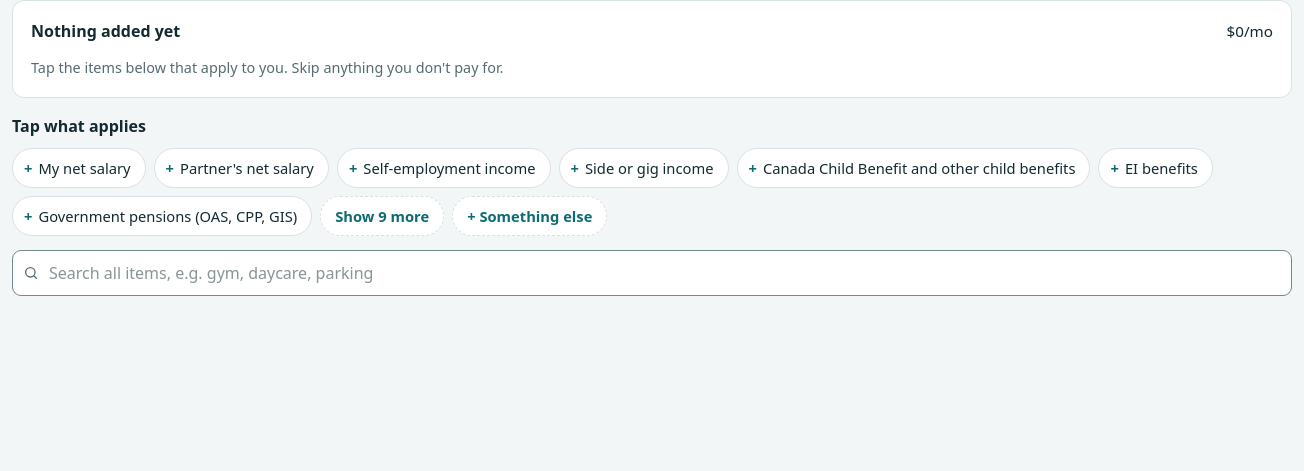
Test case: BucketStep › moves focus to the next row, then the previous, then the picker heading
Click the button with aria-label "Add My net salary" at {"x": 79, "y": 168}, box [12,148,146,188]
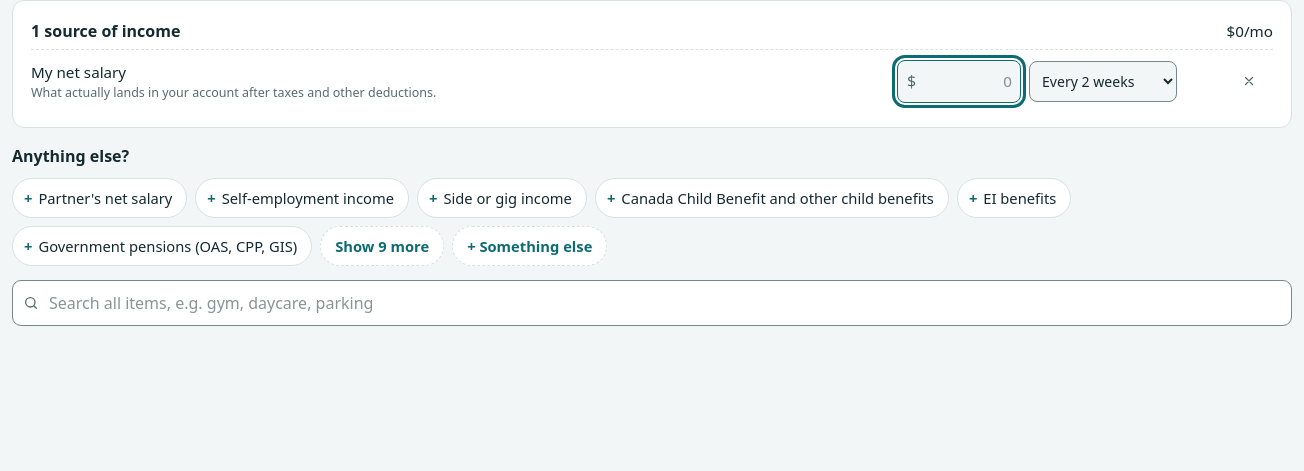
Click the button with aria-label "Add Partner's net salary" at {"x": 100, "y": 198}, box [12,178,187,218]
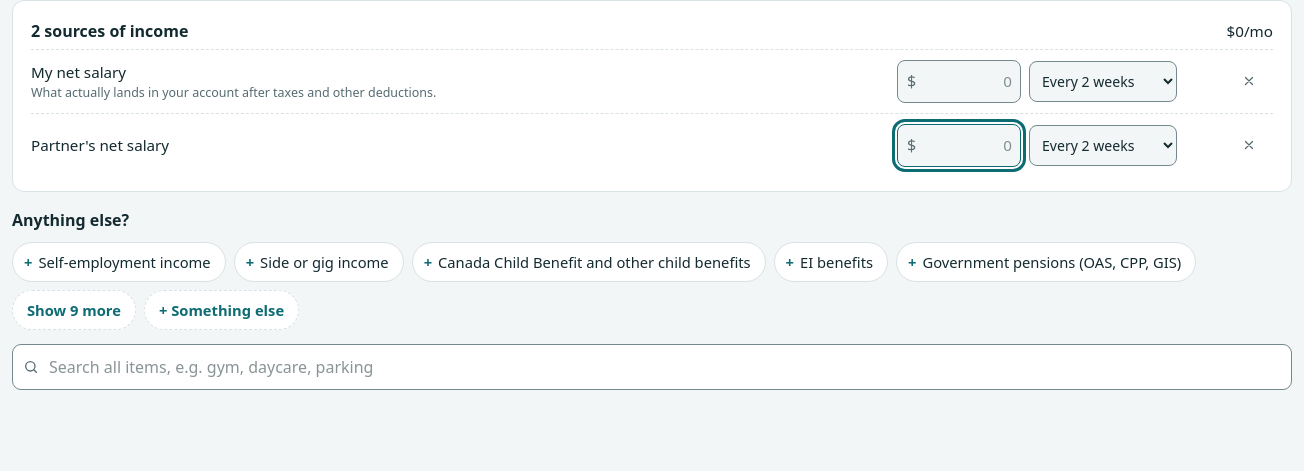
Click the button "+ EI benefits" at {"x": 831, "y": 262}, box [774,242,888,282]
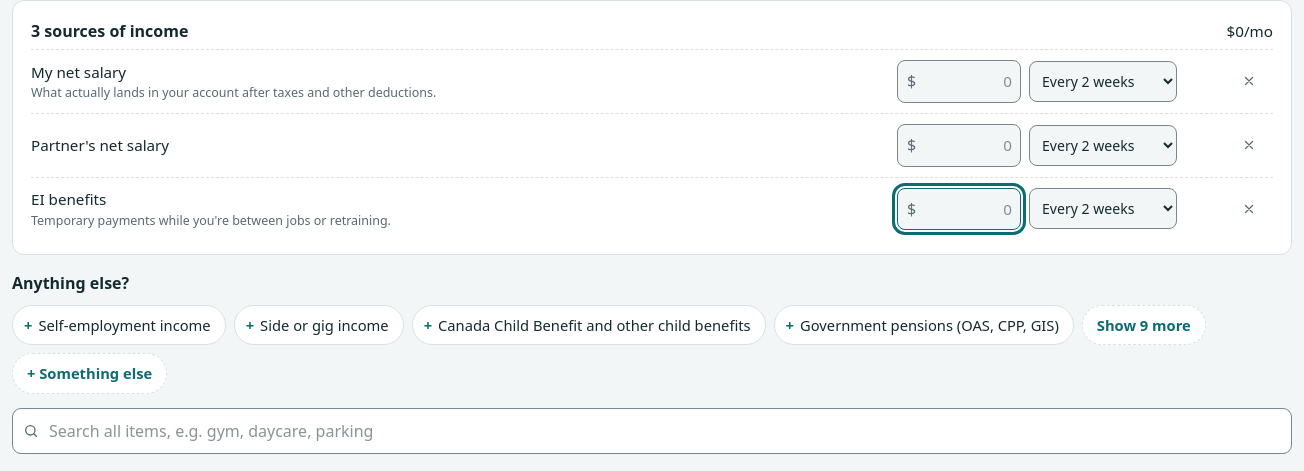
Click the button named "Remove Partner's net salary" at {"x": 1249, "y": 145}, box [1233,129,1265,161]
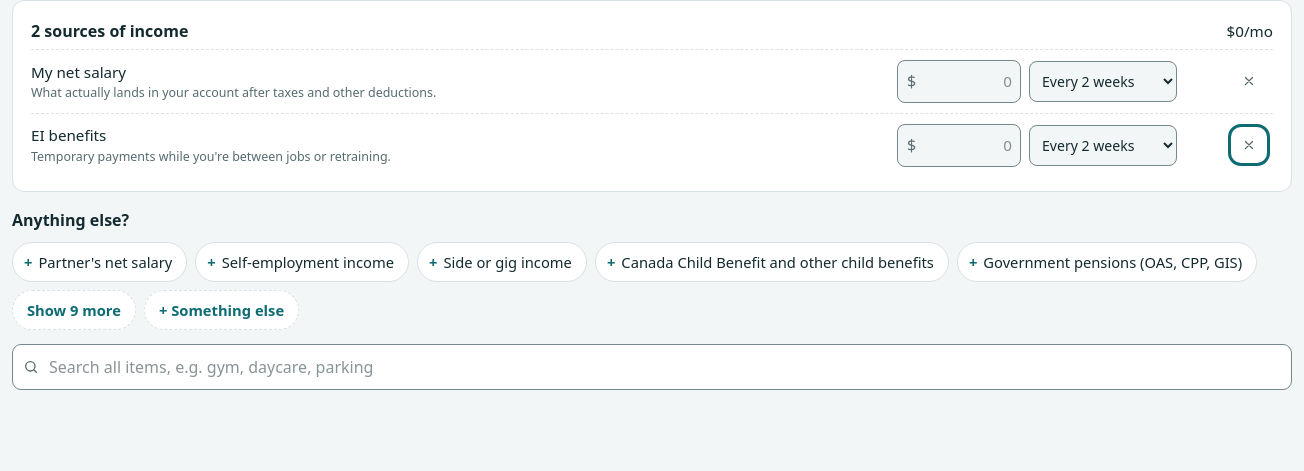
Click the button named "Remove EI benefits" at {"x": 1249, "y": 145}, box [1233,129,1265,161]
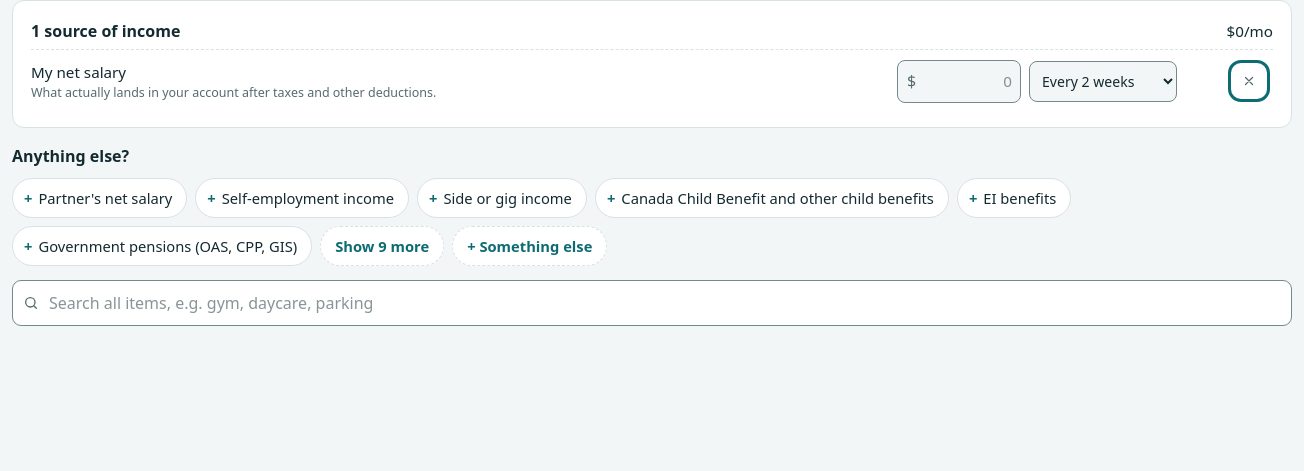
Click the button named "Remove My net salary" at {"x": 1249, "y": 81}, box [1233,65,1265,97]
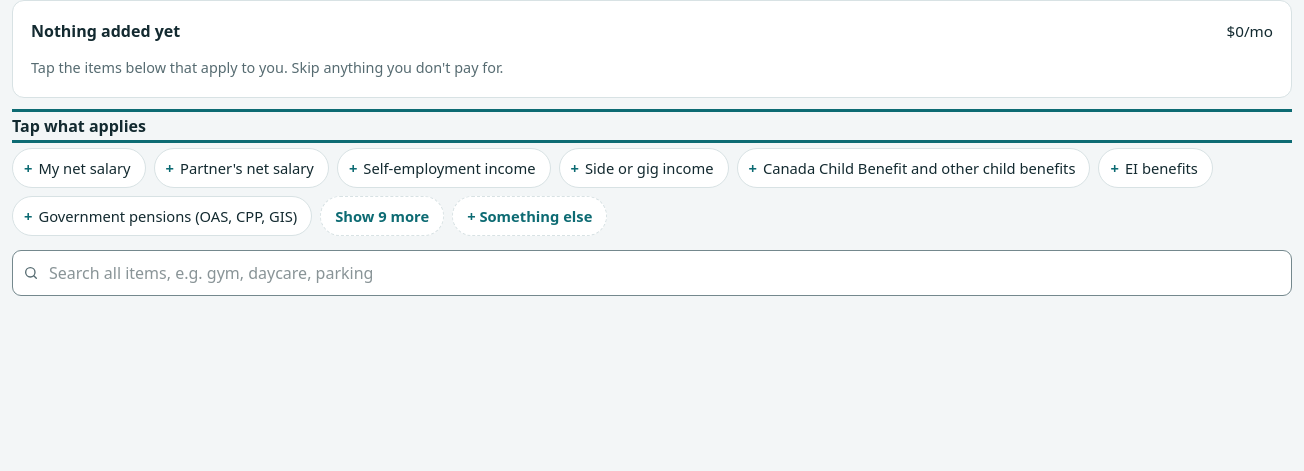
Expected: the button with aria-label "Add Partner's net salary" is shown, [154,148,329,188]
Expected: the heading "Tap what applies" is shown, [12,115,146,137]
Expected: the heading "Nothing added yet" is shown, [31,19,180,43]
